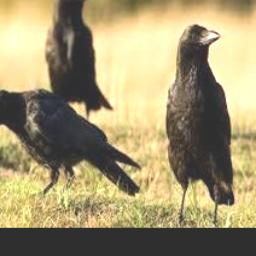Crow: (0, 88, 141, 198), (165, 23, 234, 226), (46, 0, 114, 123)
